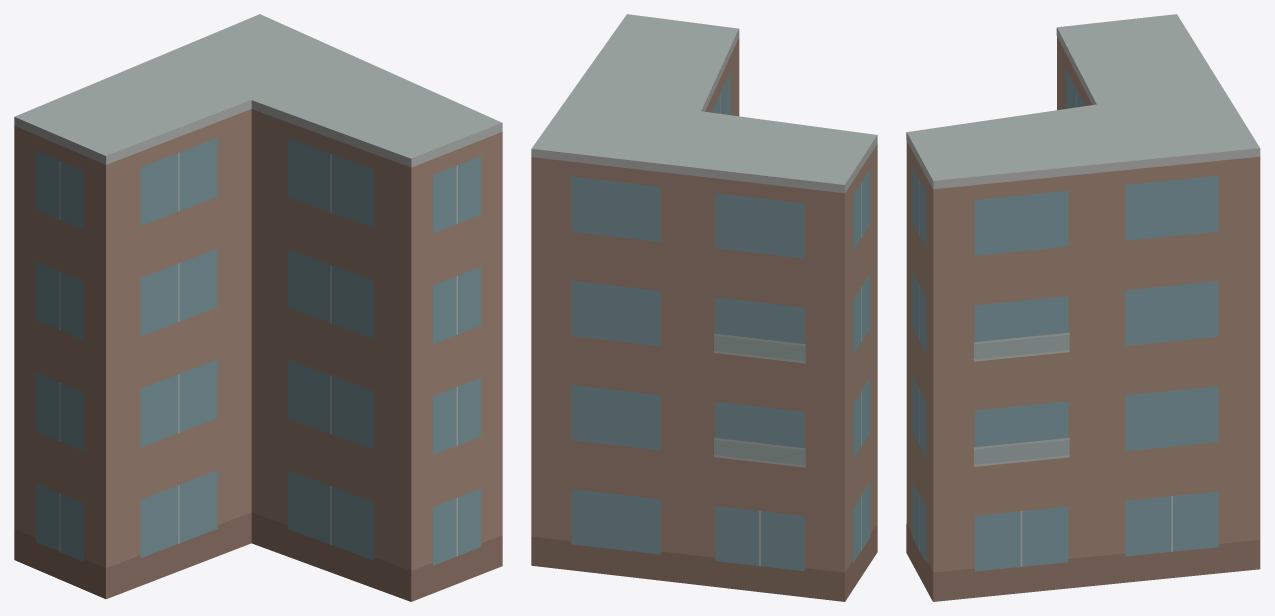
The model's file is survey-upis-33046216.glb.
3 views of the same model, side by side, from view 1: azimuth 30°, elevation 25°; view 2: azimuth 150°, elevation 25°; view 3: azimuth 270°, elevation 25° (orthographic). The views are drawn at different scales.
Visible parts, largest first — view 1: survey-upis-33046216.tmp; view 2: survey-upis-33046216.tmp; view 3: survey-upis-33046216.tmp.
Part boxes in pixels (left/top/right/bottom): survey-upis-33046216.tmp: left=14, top=14, right=502, bottom=601; survey-upis-33046216.tmp: left=531, top=14, right=877, bottom=601; survey-upis-33046216.tmp: left=906, top=14, right=1260, bottom=601.
Bounding box in the file's own units: 10.38 × 12.2 × 9.3.
